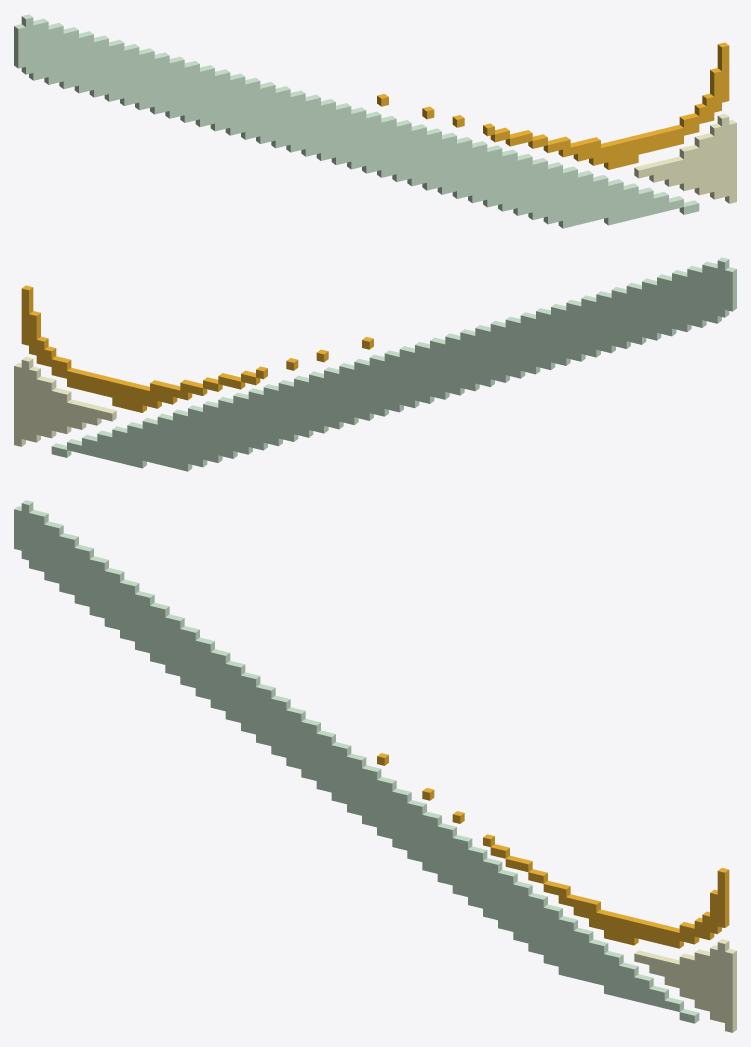
File: Fight_721_2_08_fx.obj
3 renders of one model, top to bottom at view 1: azimuth 30°, elevation 25°; view 2: azimuth 150°, elevation 25°; view 3: azimuth 330°, elevation 25°, orthographic.
Bounding box in the file's own units: 9.5 × 4.5 × 0.1.
Materials: 1 (1 with a texture image).
